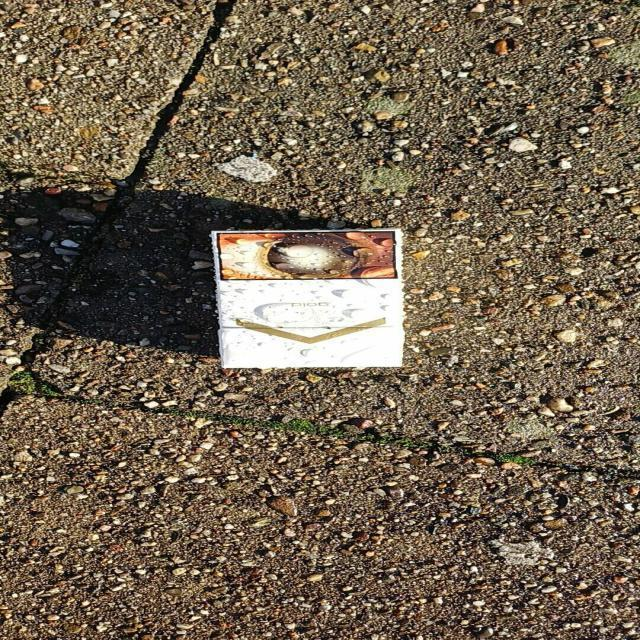Paper: (208, 226, 408, 370)
